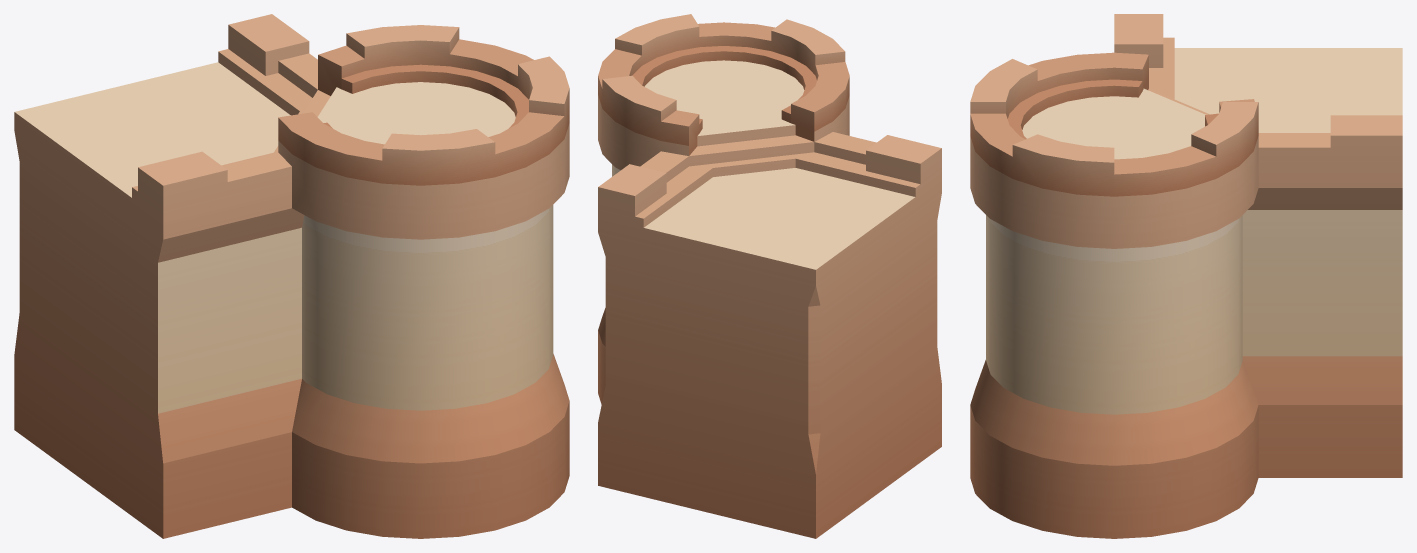
Rendered from wall-corner-half-tower.obj.
3 renders of one model, left to right at view 1: azimuth 30°, elevation 25°; view 2: azimuth 150°, elevation 25°; view 3: azimuth 270°, elevation 25°, orthographic. The views are drawn at different scales.
Parts seen in each view (by area): view 1: wall-corner-half-tower; view 2: wall-corner-half-tower; view 3: wall-corner-half-tower.
Part boxes in pixels (x1,y1,x2,y2): wall-corner-half-tower: (14,14,569,538); wall-corner-half-tower: (598,14,941,538); wall-corner-half-tower: (970,14,1402,538).
Size of the model in its own units: 1.5 by 1.44 by 1.5.
Materials: 1 (1 with a texture image).
